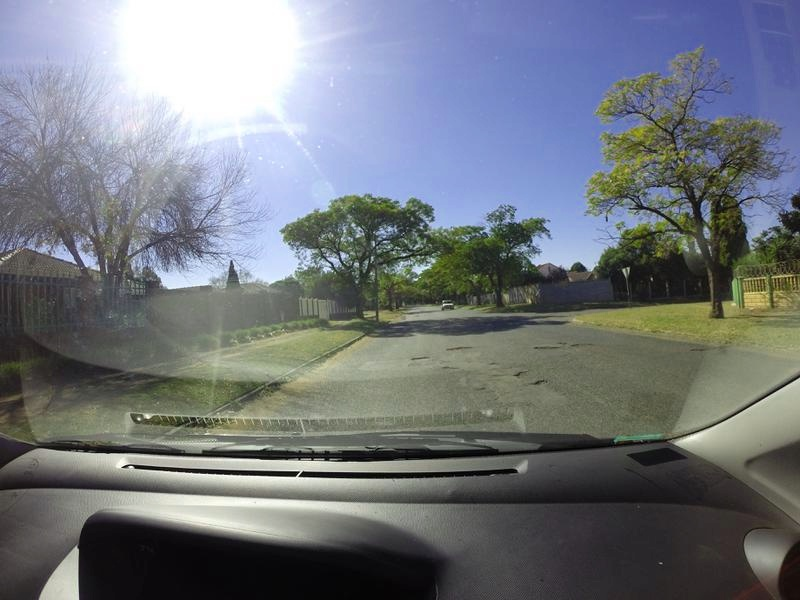pothole: (533, 340, 561, 353), (444, 343, 474, 355), (572, 338, 594, 354), (532, 378, 550, 390), (688, 342, 708, 352), (512, 368, 530, 378), (442, 363, 460, 373), (409, 355, 433, 362), (471, 383, 492, 390)
